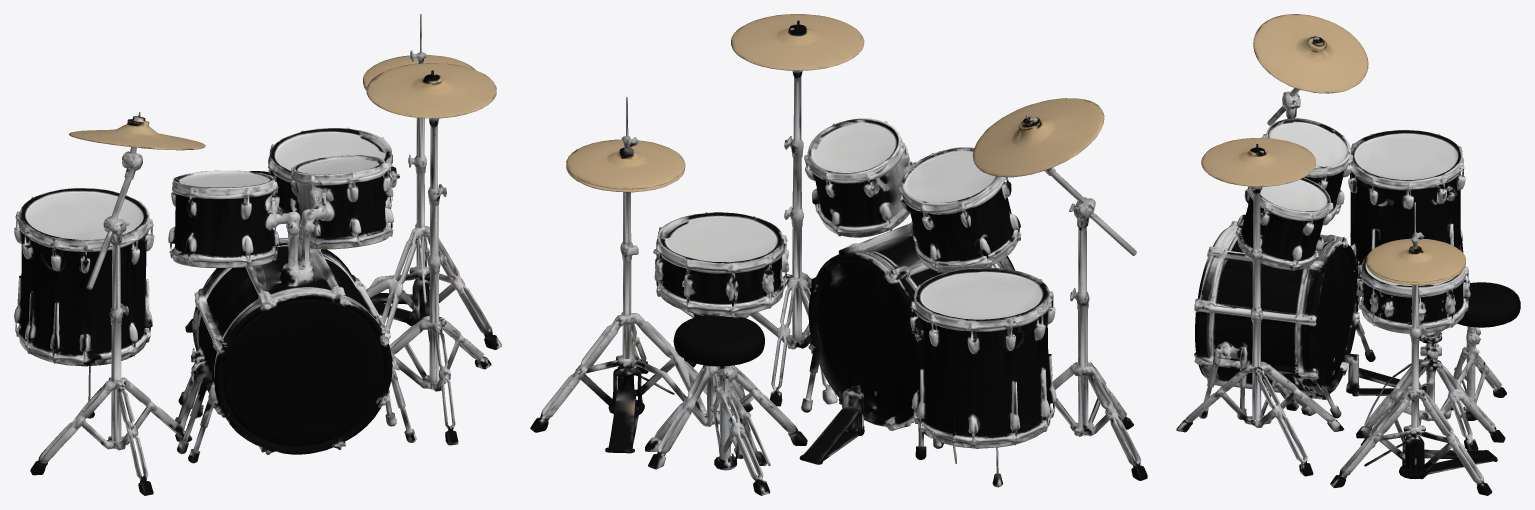
File: drums.glb
3 renders of one model, left to right at view 1: azimuth 30°, elevation 25°; view 2: azimuth 150°, elevation 25°; view 3: azimuth 270°, elevation 25°, orthographic. The views are drawn at different scales.
Visible parts, largest first — view 1: node_0_Material_0; view 2: node_0_Material_0; view 3: node_0_Material_0.
Boxes of the visible parts, x1,y1,x2,y2 form: node_0_Material_0: [14, 14, 501, 495]; node_0_Material_0: [530, 14, 1147, 495]; node_0_Material_0: [1176, 14, 1520, 495].
Bounding box in the file's own units: 0.9247 × 0.5926 × 0.6234.
Materials: 1 (1 with a texture image).
